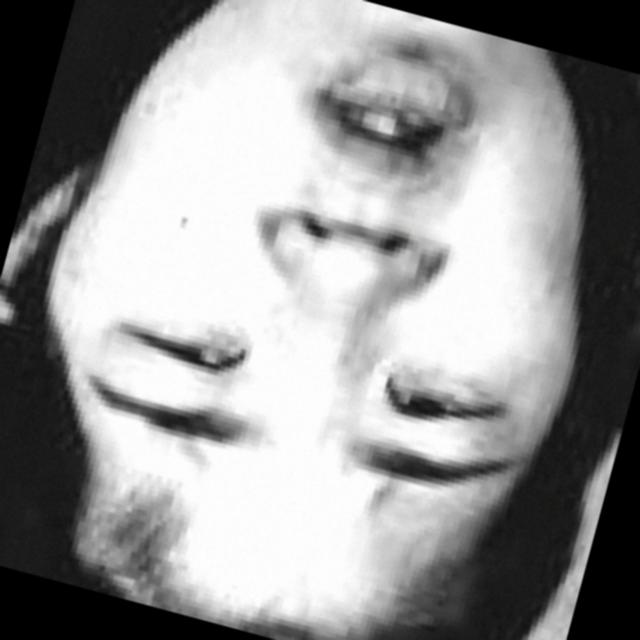disgust: (25, 0, 629, 608)
